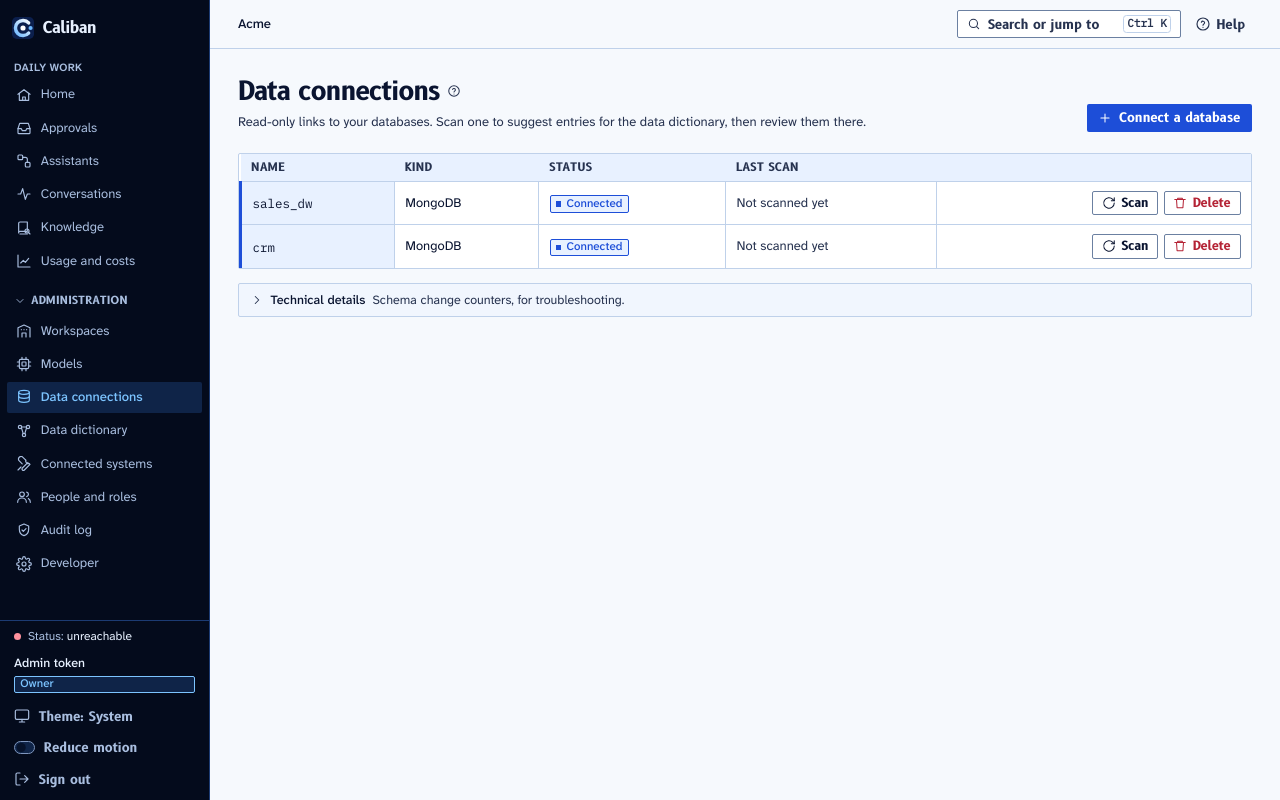
Test: DatasourcesPage › deletes a datasource through a confirm dialog, scoped to its tenant
Click the button with aria-label "Delete sales_dw".
click(1202, 203)  # box [1164, 190, 1240, 215]
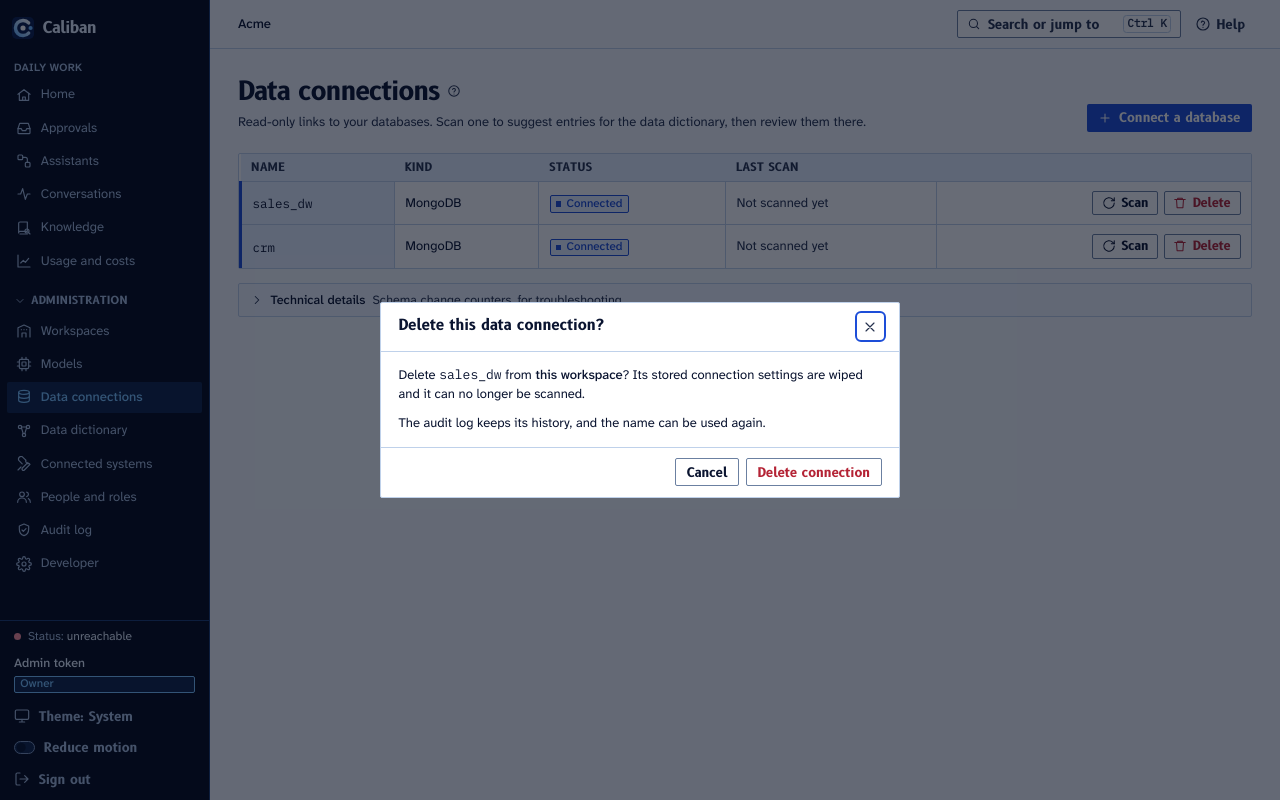
Expected: the dialog "Delete this data connection?" shows "sales_dw", [439, 366, 502, 383]
Expected: the dialog "Delete this data connection?" shows "this workspace", [536, 366, 623, 383]
Expected: the dialog "Delete this data connection?" shows "connection settings are wiped", [398, 366, 863, 402]
Click the button "Delete connection".
click(814, 472)  # box [746, 458, 882, 486]
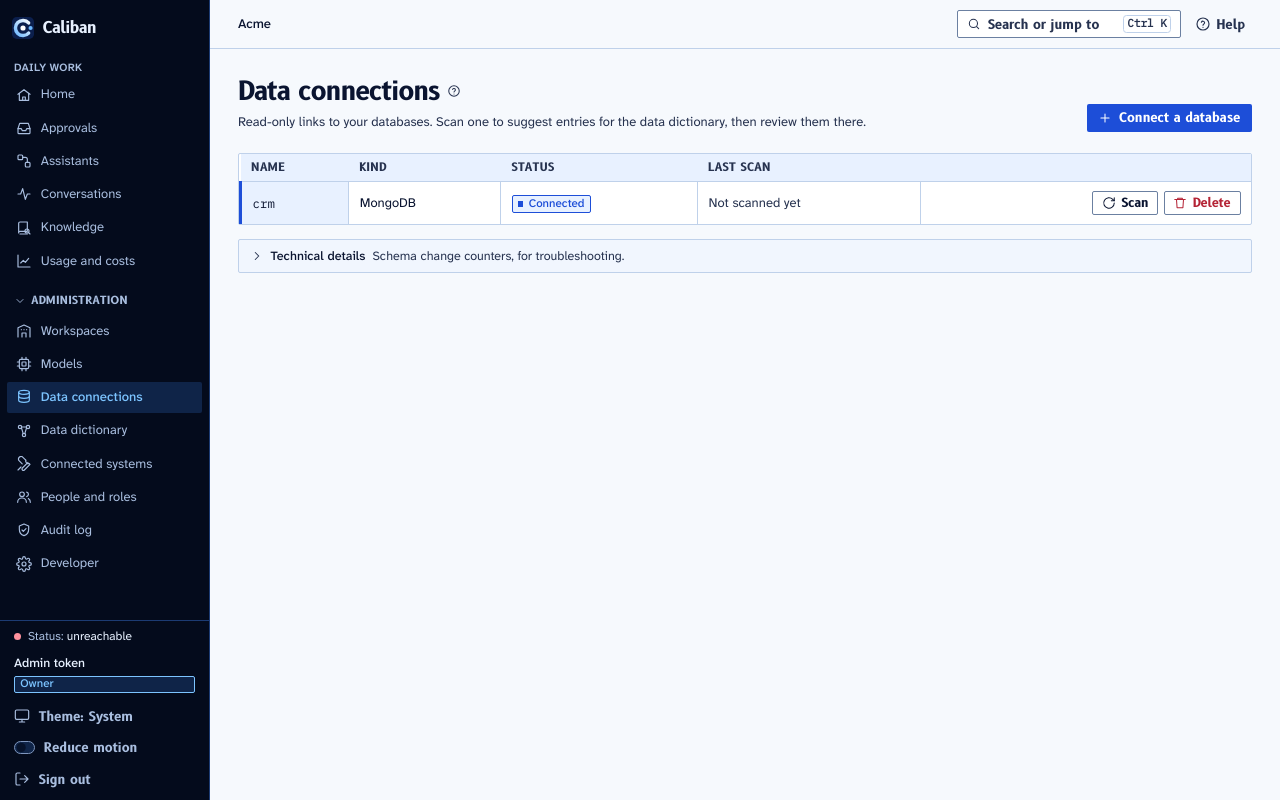
Expected: the text "crm" is shown, [240, 181, 349, 224]
Expected: the text "sales_dw" is gone
Expected: the dialog is gone
